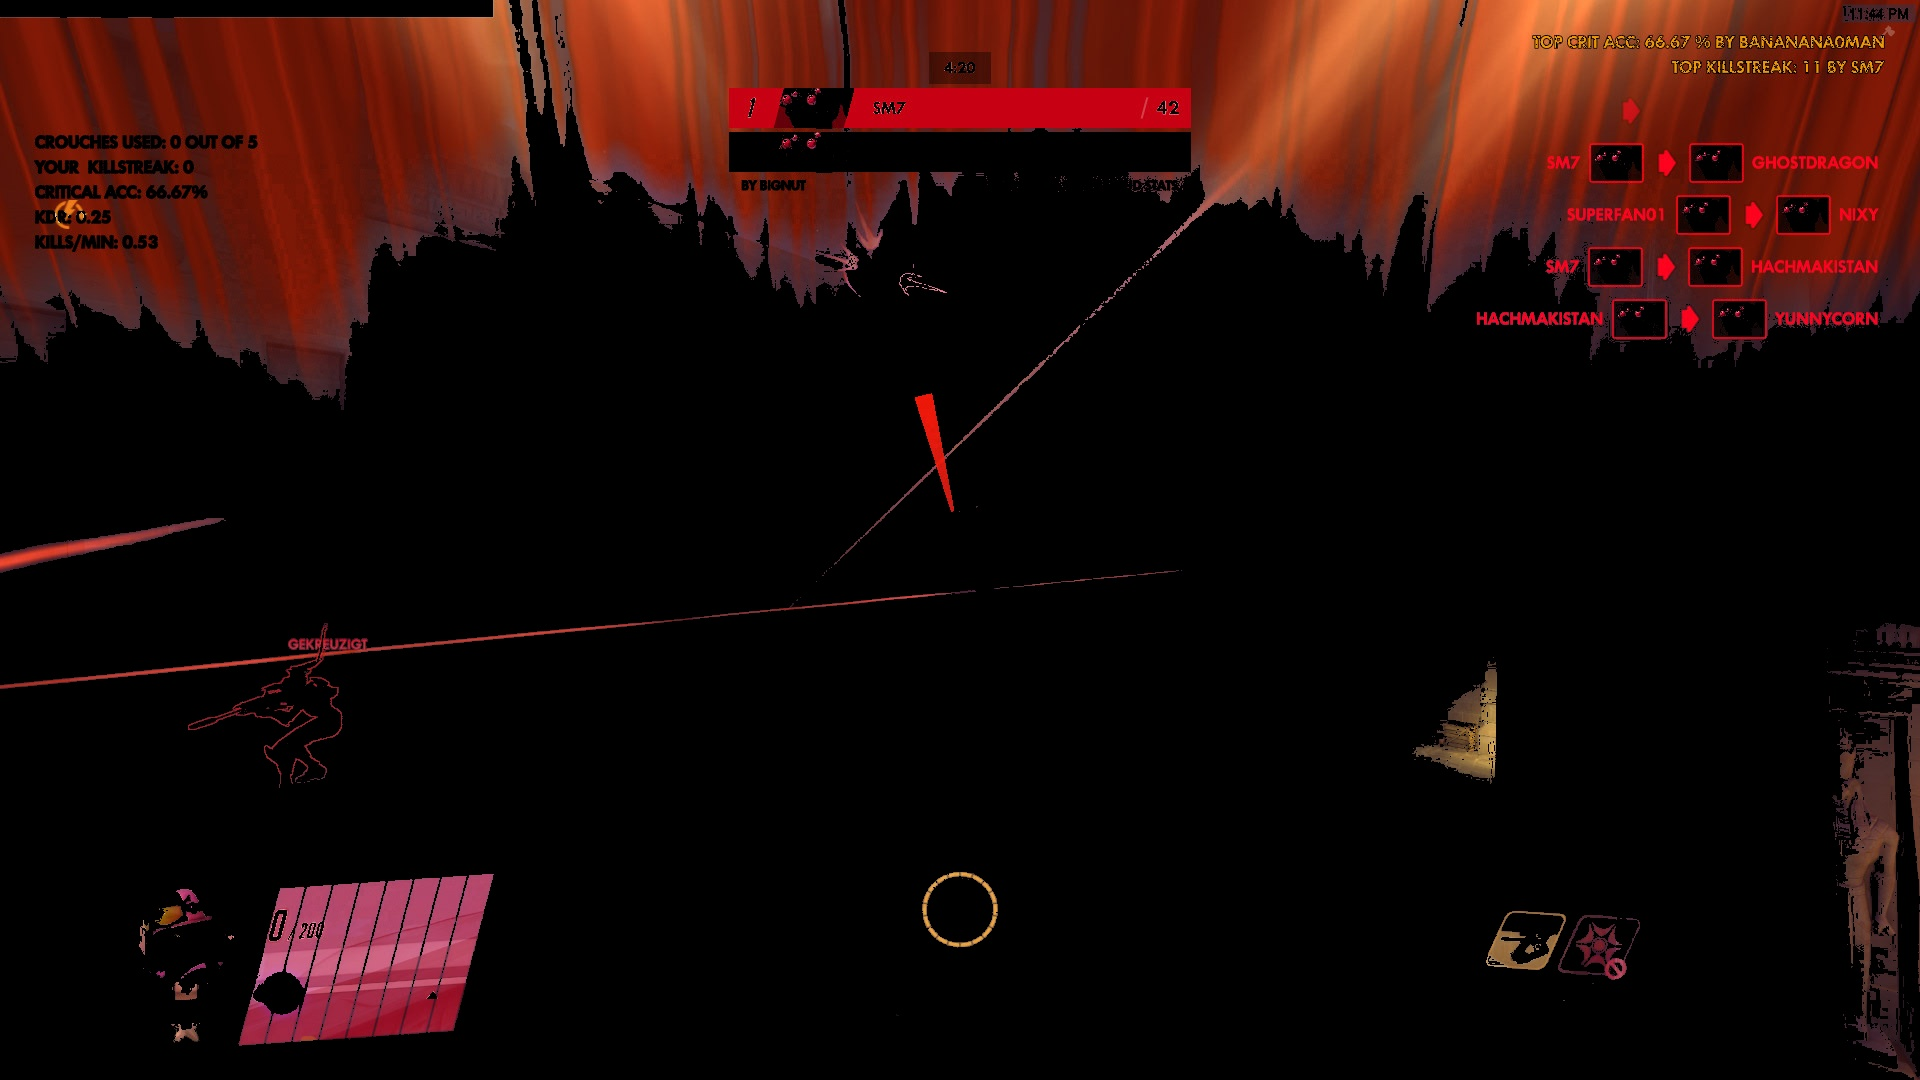widowmaker: (245, 658, 357, 810)
